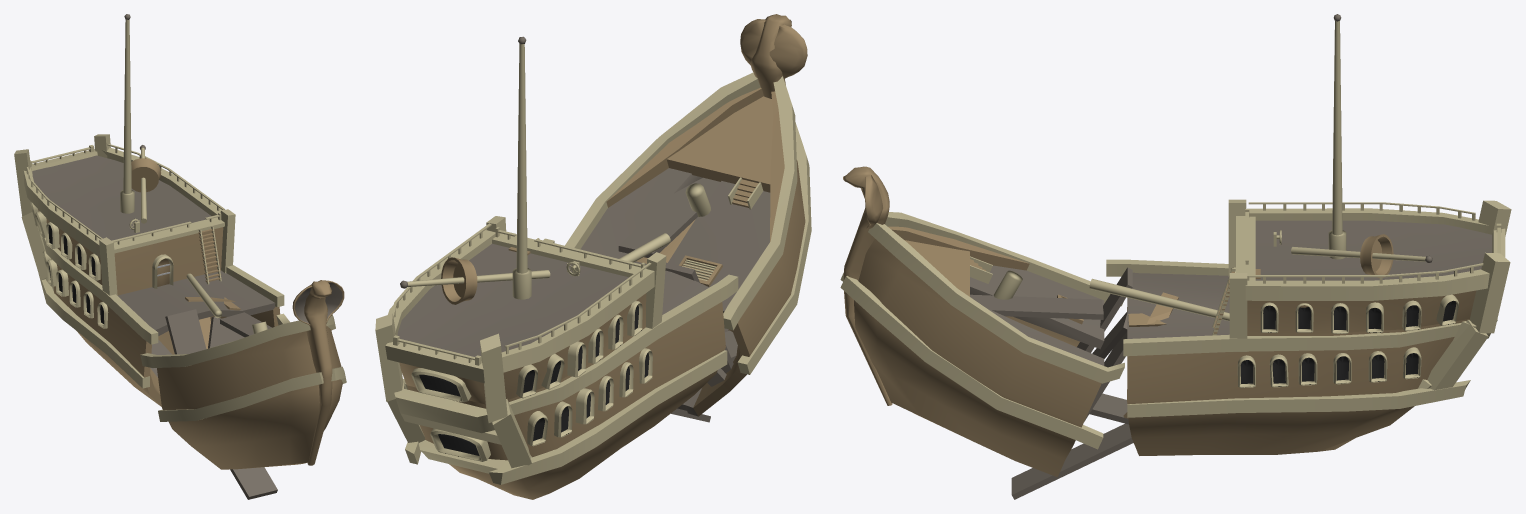
The model's file is SM_Sunkenship_Placeholder.fbx.
3 renders of one model, left to right at view 1: azimuth 30°, elevation 25°; view 2: azimuth 150°, elevation 25°; view 3: azimuth 270°, elevation 25°, orthographic. The views are drawn at different scales.
Visible parts, largest first — view 1: polySurface163, SM_Ship_Front, pCube186, polySurface166, pCube183, pCube187, pCube181, polySurface164; view 2: polySurface163, SM_Ship_Front, pCube187, polySurface166, polySurface164; view 3: polySurface163, SM_Ship_Front, pCube187, pCube183, polySurface166, polySurface164, pCube186, pCube184.
Boxes of the visible parts, bbox=[...] form: polySurface163: bbox=[14, 14, 284, 406]; SM_Ship_Front: bbox=[140, 280, 346, 469]; pCube186: bbox=[165, 309, 206, 354]; polySurface166: bbox=[131, 145, 160, 223]; pCube183: bbox=[230, 467, 277, 499]; pCube187: bbox=[220, 312, 271, 337]; pCube181: bbox=[208, 317, 230, 348]; polySurface164: bbox=[186, 273, 222, 318]; polySurface163: bbox=[375, 36, 738, 499]; SM_Ship_Front: bbox=[565, 14, 811, 416]; pCube187: bbox=[618, 177, 720, 257]; polySurface166: bbox=[400, 257, 550, 304]; polySurface164: bbox=[619, 233, 670, 262]; polySurface163: bbox=[1106, 14, 1511, 455]; SM_Ship_Front: bbox=[840, 166, 1124, 477]; pCube187: bbox=[970, 294, 1103, 319]; pCube183: bbox=[1011, 423, 1133, 499]; polySurface166: bbox=[1291, 234, 1432, 277]; polySurface164: bbox=[1089, 278, 1229, 321]; pCube186: bbox=[1077, 267, 1132, 352]; pCube184: bbox=[1089, 393, 1128, 424].
Size of the model in its own units: 2178 by 5647 by 7231.
